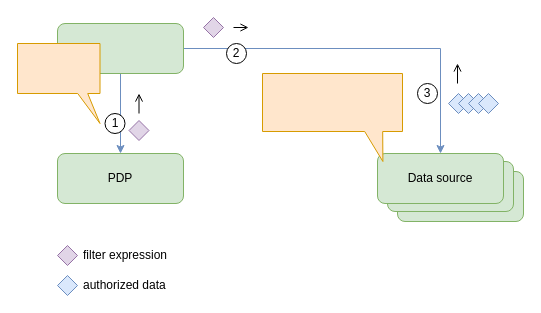
The diagram is 541 pixels wide and 313 high, and some of its shapes have lost their labels. Here are the shapes that lost their labels. From the top down, the centre of each, then its label:
the point at 120,48: PEP
the point at 58,83: "authorize" request
the point at 332,117: The PEP restricts data read from the application database or service
